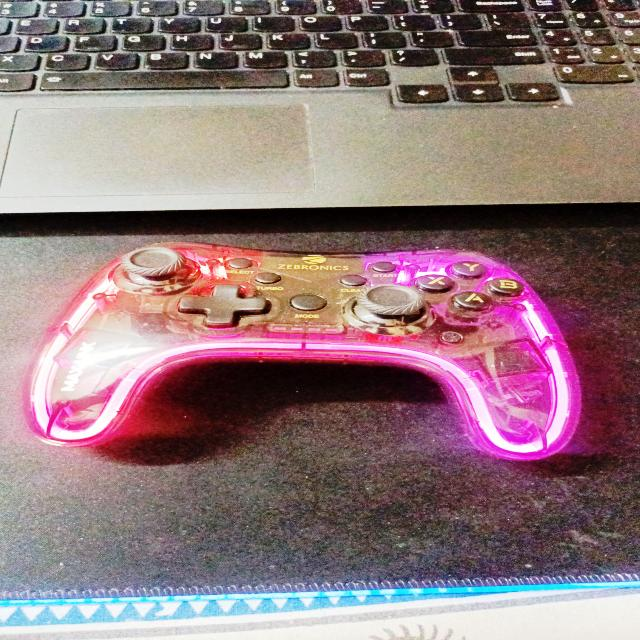gamepad: (20, 241, 582, 461)
